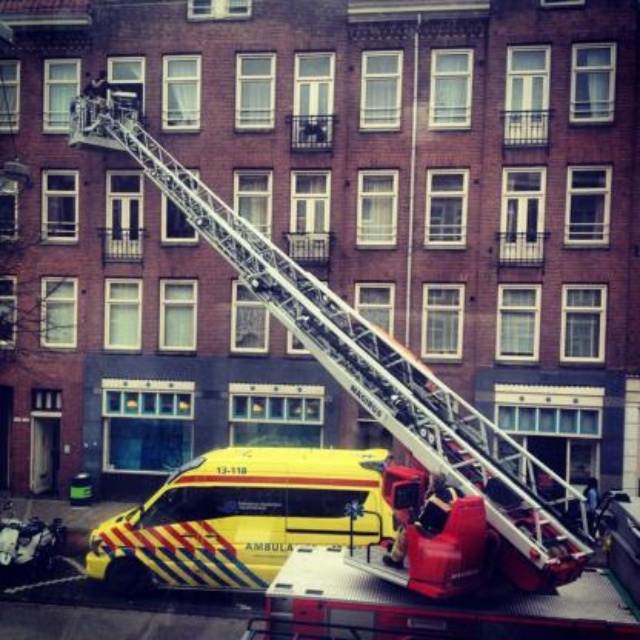Van: (83, 447, 406, 601)
